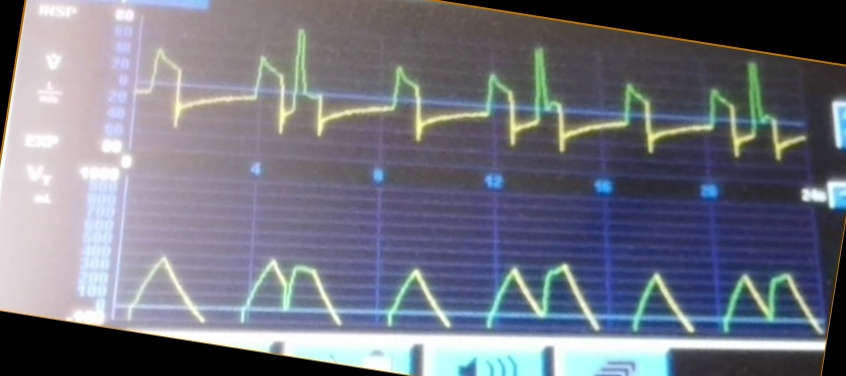Double_Triggering Flow: (242, 29, 794, 161)
Double_Triggering Volume: (225, 252, 821, 331)
